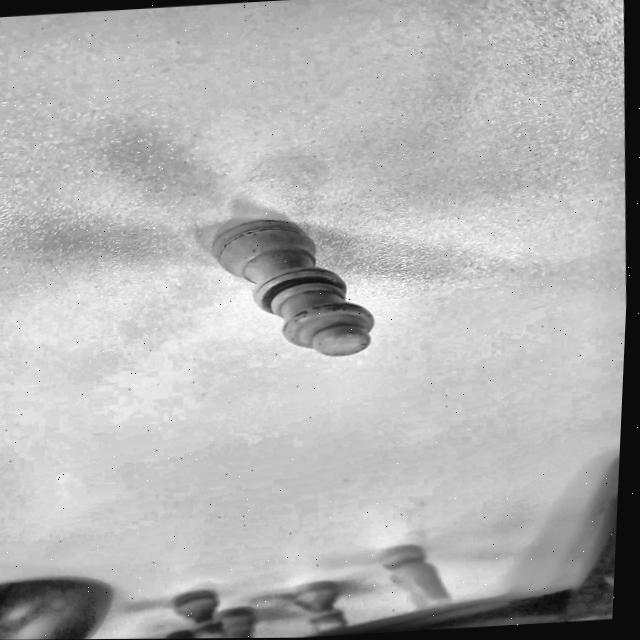white-queen: (149, 172, 408, 382)
